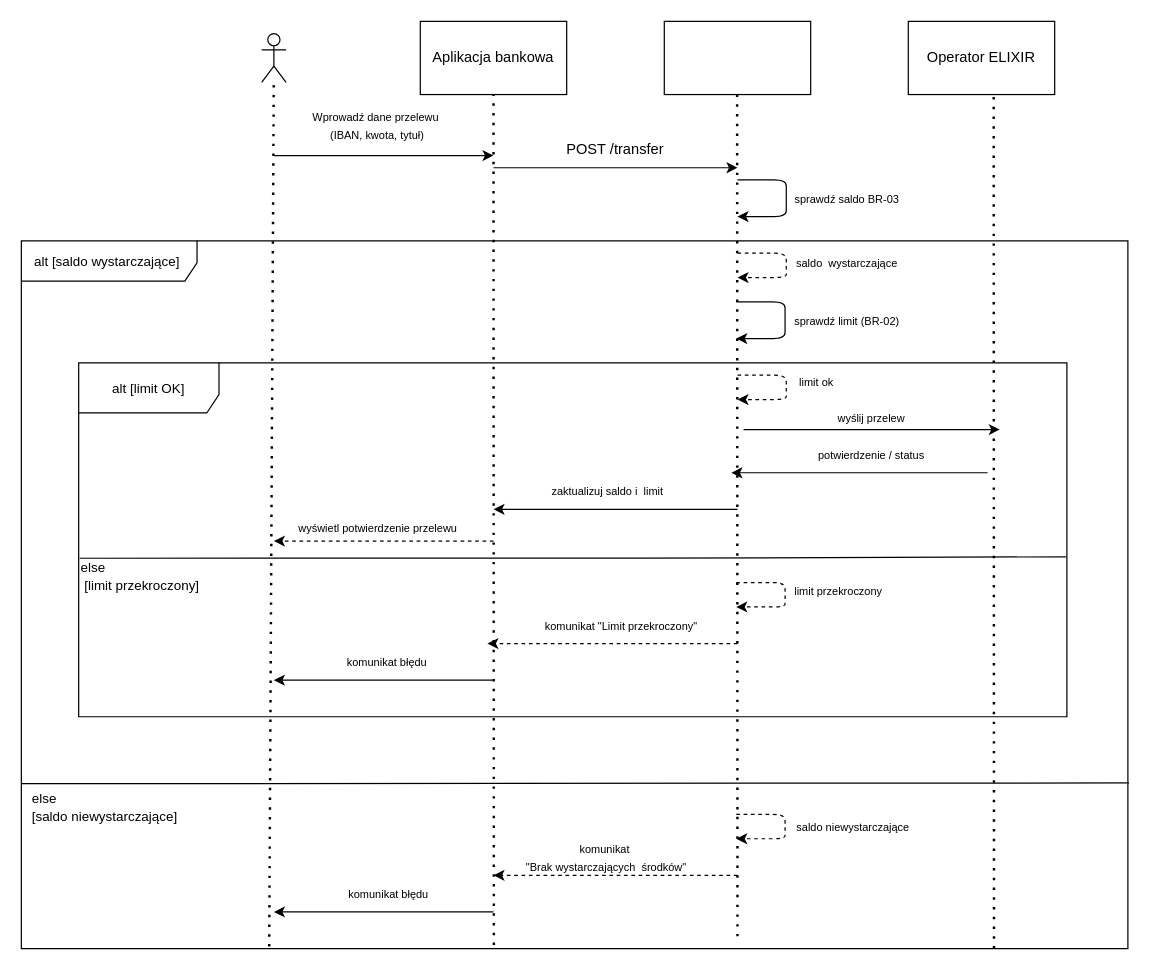
The diagram is 1152 pixels wide and 972 high, and some of its shapes have lost their labels. The shapes that lost their labels are listed below. From the top down, each one's centre as x and y in pixels, then its label:
At [273,57]: "Klient".
At [737,57]: "System bankowy".
